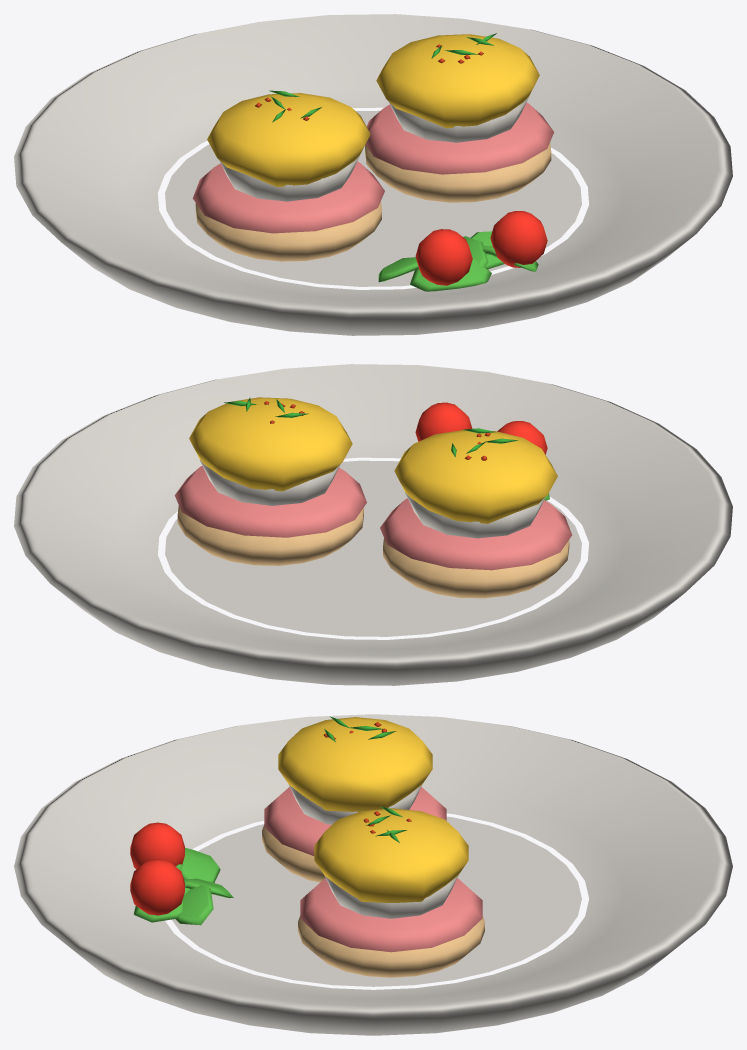
3 views of the same model, one above another, from view 1: azimuth 30°, elevation 25°; view 2: azimuth 150°, elevation 25°; view 3: azimuth 270°, elevation 25° (orthographic).
Parts seen in each view (by area): view 1: plate, hollandaise (×2), plate_well, ham (×2), muffin (×2), tomato (×2), egg (×2), greens (×2); view 2: plate, plate_well, hollandaise (×2), ham (×2), muffin (×2), egg (×2), tomato (×2); view 3: plate, plate_well, hollandaise (×2), ham (×2), muffin (×2), tomato (×2), egg (×2), greens (×2).
Boxes of the visible parts, x1,y1,x2,y2 form: plate: [14, 14, 732, 335]; hollandaise (×2): [207, 34, 539, 187]; plate_well: [165, 110, 581, 286]; ham (×2): [192, 102, 554, 233]; muffin (×2): [195, 142, 551, 261]; tomato (×2): [415, 211, 547, 285]; egg (×2): [219, 96, 528, 201]; greens (×2): [378, 257, 491, 291]; plate: [14, 364, 732, 685]; plate_well: [165, 460, 581, 636]; hollandaise (×2): [189, 397, 557, 523]; ham (×2): [174, 466, 571, 570]; muffin (×2): [177, 505, 569, 598]; egg (×2): [200, 459, 545, 538]; tomato (×2): [415, 402, 547, 454]; plate: [14, 714, 732, 1035]; plate_well: [172, 816, 581, 986]; hollandaise (×2): [278, 717, 468, 902]; ham (×2): [264, 787, 482, 952]; muffin (×2): [262, 825, 484, 977]; tomato (×2): [130, 822, 184, 915]; egg (×2): [288, 784, 457, 918]; greens (×2): [175, 847, 220, 925].
Bounding box in the file's own units: 0.2 × 0.0464 × 0.2.
